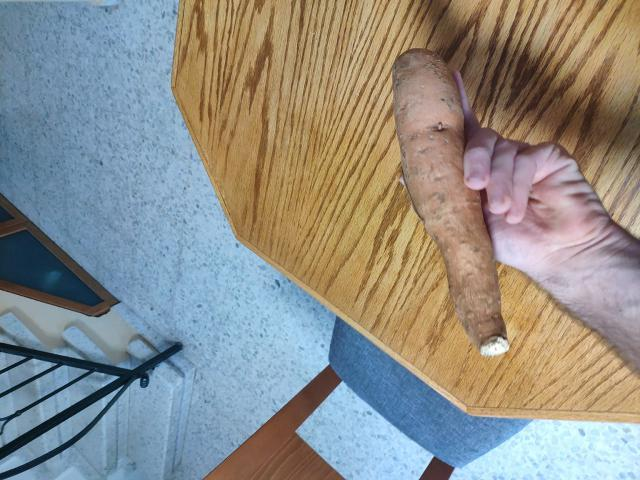sweet_potato: (380, 52, 521, 358)
